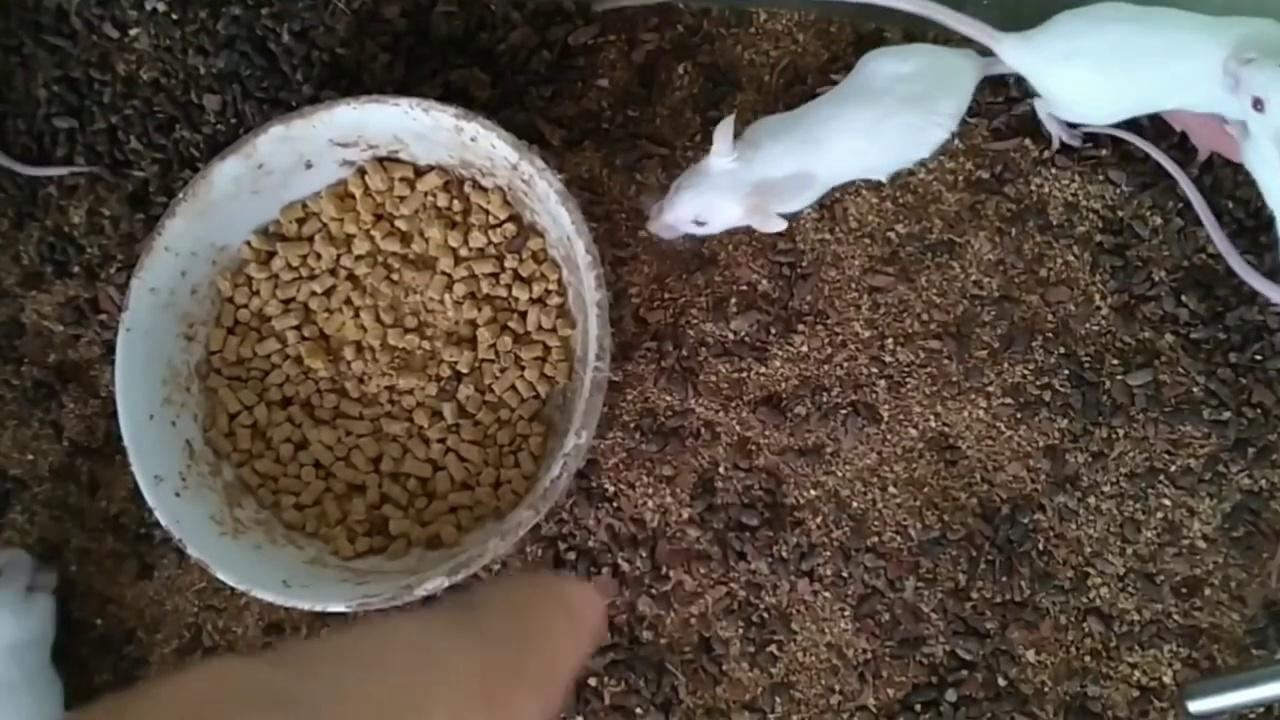rat: (592, 0, 1280, 150), (648, 43, 998, 241), (0, 546, 65, 720), (1223, 44, 1280, 240)
